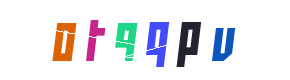0: (24, 0, 104, 80)
9: (86, 0, 166, 80)
P: (147, 0, 227, 80)
Q: (105, 0, 185, 80)
T: (63, 0, 143, 80)
V: (148, 0, 228, 80)
